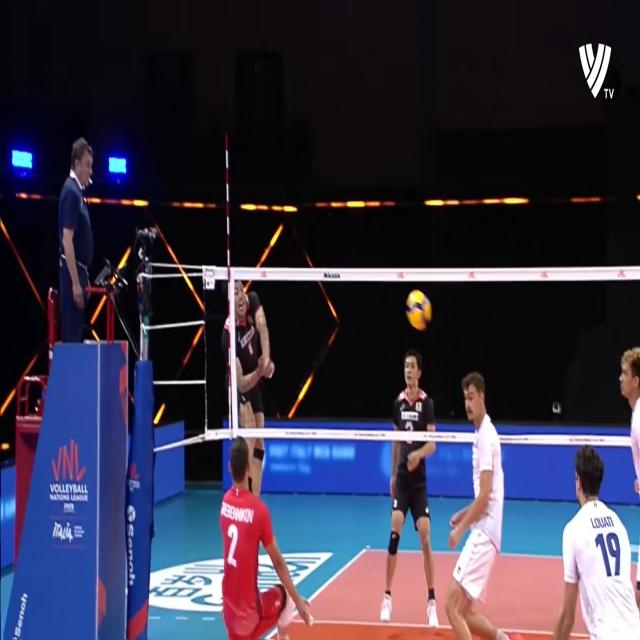player: (444, 362, 520, 640), (218, 437, 311, 640), (552, 439, 640, 640), (389, 353, 444, 635), (226, 274, 286, 495)
